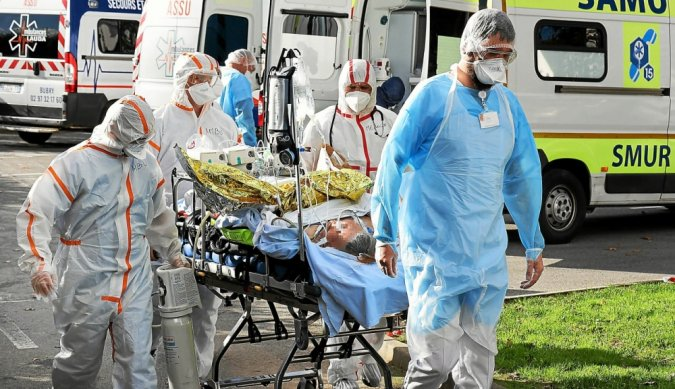with_mask: (471, 40, 507, 95), (185, 70, 218, 109), (119, 130, 149, 162), (347, 80, 372, 113)
